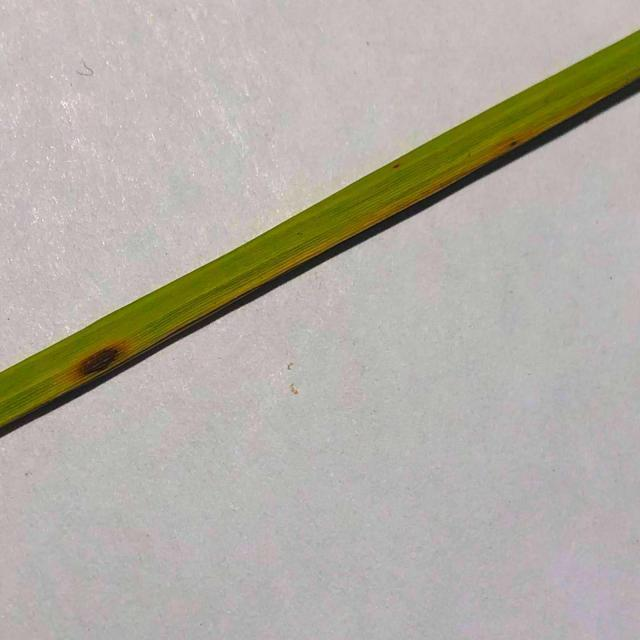Leaf_Blast: (439, 128, 588, 182), (39, 329, 154, 382)
